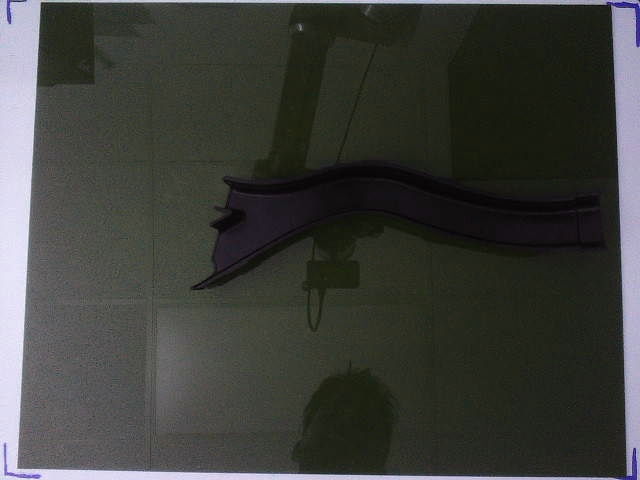887_B-Under: (191, 162, 607, 291)
